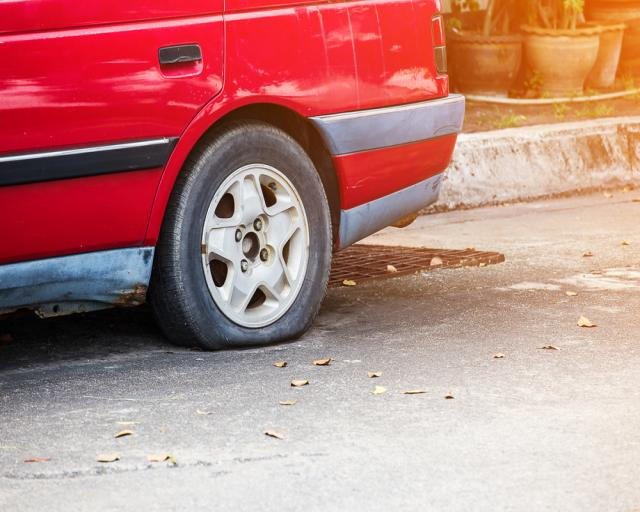tire flat: (150, 117, 334, 350)
